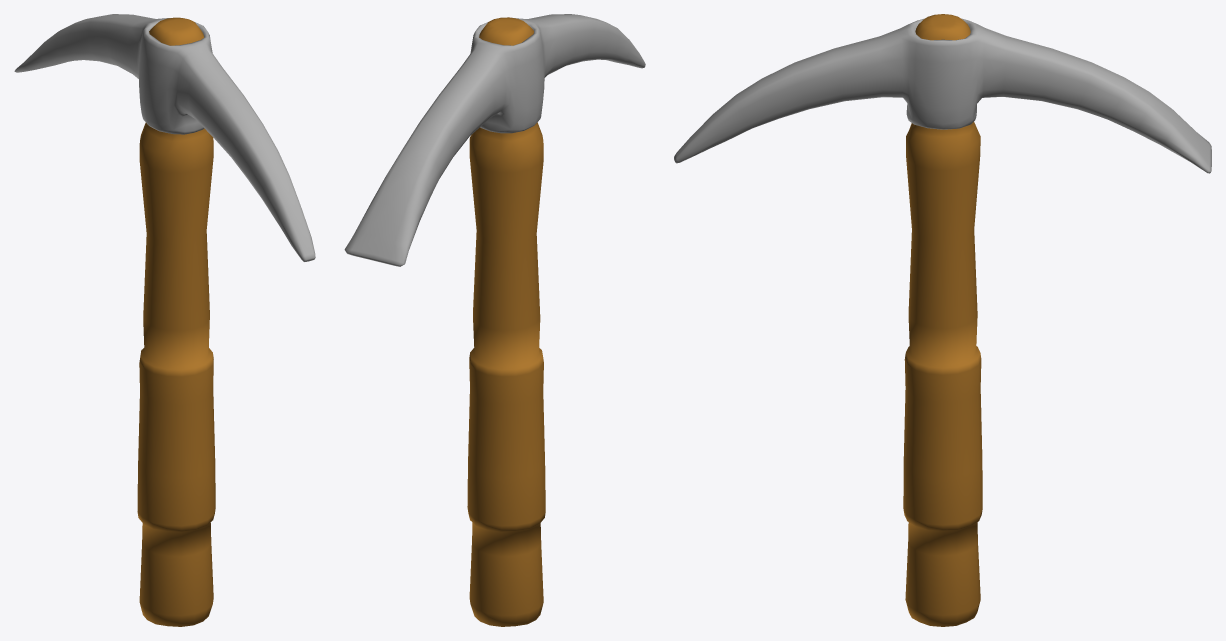
The model's file is MetalPickaxe.fbx.
3 views of the same model, side by side, from view 1: azimuth 30°, elevation 25°; view 2: azimuth 150°, elevation 25°; view 3: azimuth 270°, elevation 25° (orthographic).
Visible parts, largest first — view 1: MetalPickaxe; view 2: MetalPickaxe; view 3: MetalPickaxe.
Boxes of the visible parts, x1,y1,x2,y2 form: MetalPickaxe: (14, 14, 315, 626); MetalPickaxe: (344, 14, 645, 626); MetalPickaxe: (674, 14, 1211, 626).
Size of the model in its own units: 0.0776 by 0.6502 by 0.5303.
